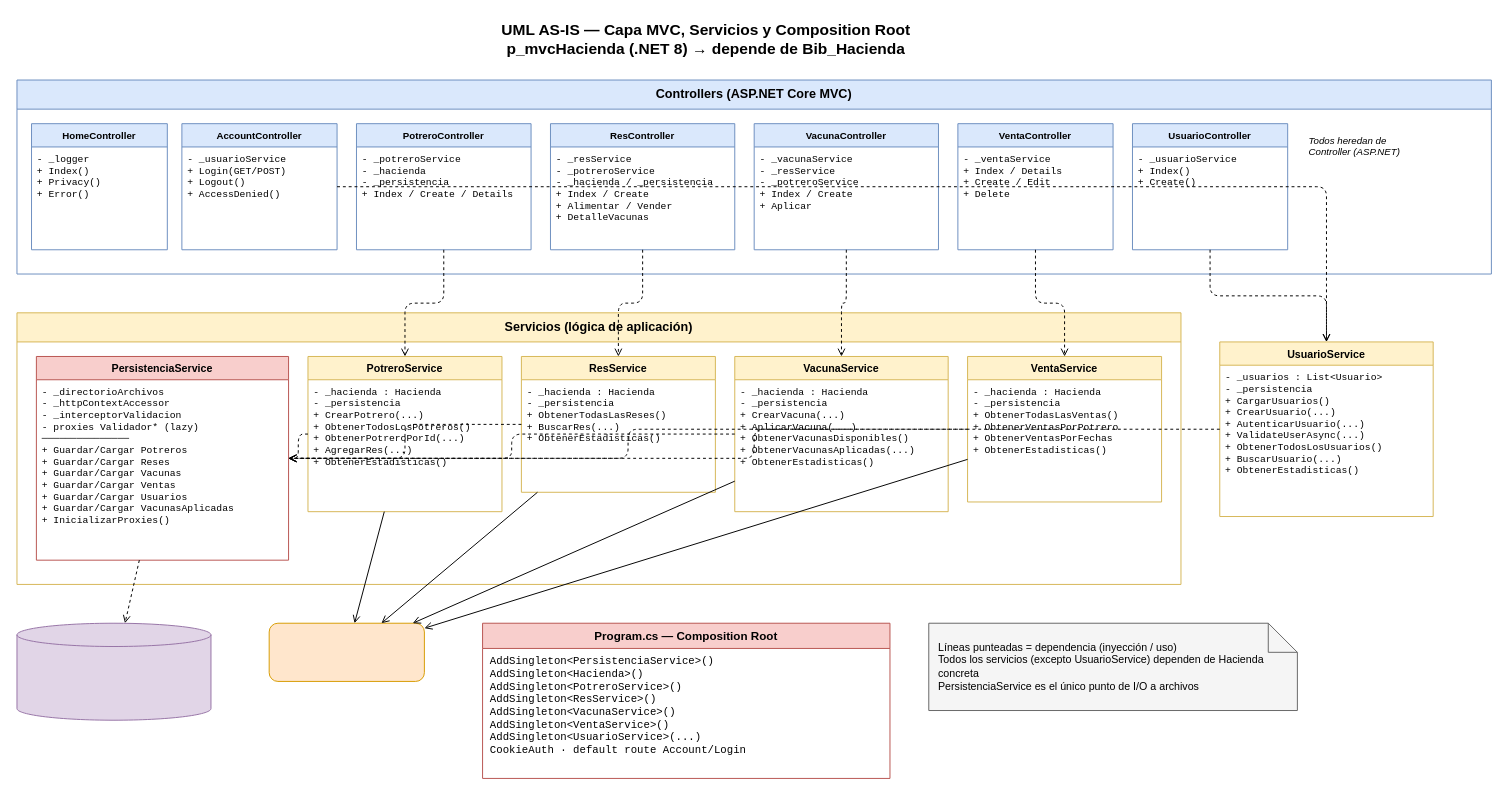
The diagram is 1508 pixels wide and 795 high, and some of its shapes have lost their labels. Here are the shapes that lost their labels. From the top down, the centre of each, then its label:
At point (113, 671): "Datos/*.txt (Potreros, Reses, Vacunas, Ventas, Usuarios, VacunasAplicadas)".
At point (346, 651): "«dominio» Hacienda (Bib_Hacienda)".
